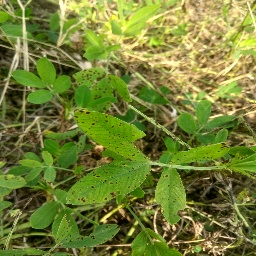GroundNut_Leaf: (77, 110, 153, 162), (65, 165, 150, 206), (155, 168, 187, 226), (124, 4, 163, 39), (170, 142, 232, 164), (29, 202, 60, 229), (110, 73, 134, 103), (73, 68, 106, 86), (36, 57, 57, 85), (138, 86, 169, 104), (196, 99, 210, 127), (177, 113, 195, 133), (75, 86, 90, 108), (27, 90, 52, 103), (43, 138, 59, 154), (18, 159, 43, 168)
